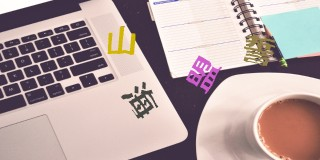山: (108, 25, 136, 55)
海: (120, 80, 158, 119)
盟: (185, 55, 222, 95)
誓: (243, 34, 275, 66)
